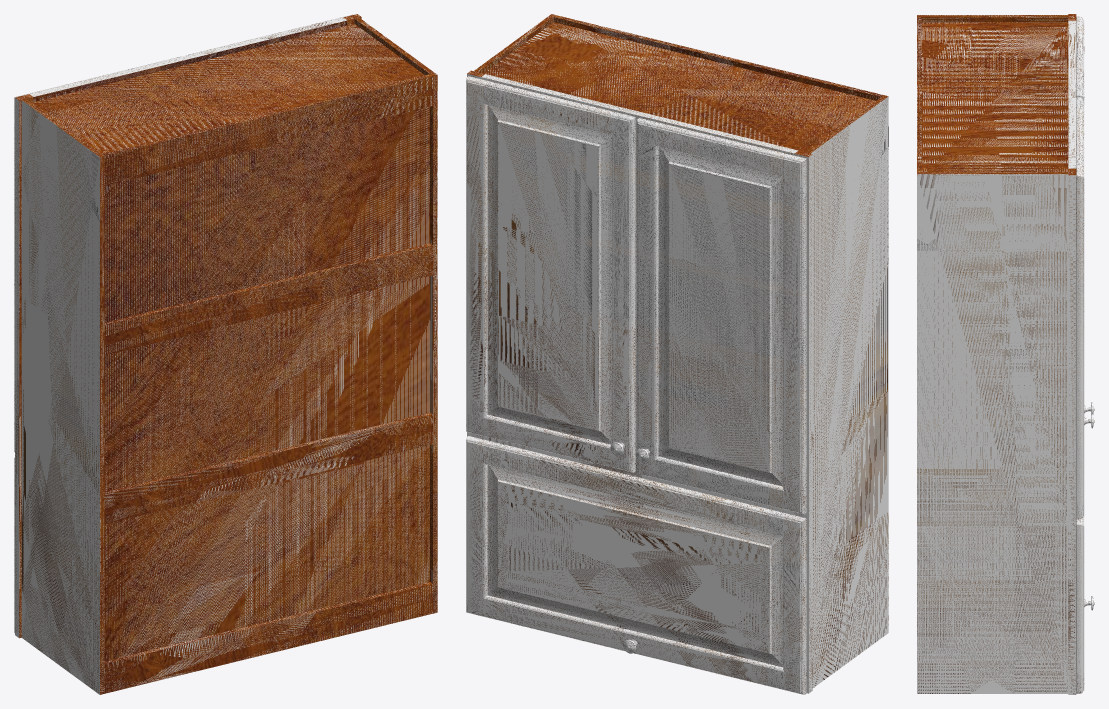
The picture shows the model from 3 angles, left to right: view 1: azimuth 30°, elevation 25°; view 2: azimuth 150°, elevation 25°; view 3: azimuth 270°, elevation 25°; orthographic projection. The views are drawn at different scales.
Visible parts, largest first — view 1: mesh5_mesh5-geometry, mesh6_mesh6-geometry, mesh12_mesh12-geometry, mesh9_mesh9-geometry, mesh1_mesh1-geometry, mesh7_mesh7-geometry, mesh10_mesh10-geometry; view 2: mesh6_mesh6-geometry, mesh23_mesh23-geometry, mesh34_mesh34-geometry, mesh9_mesh9-geometry, mesh45_mesh45-geometry, mesh40_mesh40-geometry, mesh41_mesh41-geometry, mesh32_mesh32-geometry, mesh21_mesh21-geometry, mesh20_mesh20-geometry, mesh31_mesh31-geometry, mesh18_mesh18-geometry (+23 smaller); view 3: mesh1_mesh1-geometry, mesh9_mesh9-geometry, mesh3_mesh3-geometry, mesh20_mesh20-geometry, mesh10_mesh10-geometry, mesh6_mesh6-geometry, mesh12_mesh12-geometry, mesh42_mesh42-geometry, mesh36_mesh36-geometry, mesh14_mesh14-geometry, mesh38_mesh38-geometry, mesh18_mesh18-geometry (+2 smaller).
Boxes of the visible parts, left/top/right/bottom form: mesh5_mesh5-geometry: left=104, top=106, right=429, bottom=660; mesh6_mesh6-geometry: left=21, top=99, right=104, bottom=694; mesh12_mesh12-geometry: left=102, top=74, right=432, bottom=693; mesh9_mesh9-geometry: left=31, top=24, right=424, bottom=153; mesh1_mesh1-geometry: left=354, top=17, right=437, bottom=613; mesh7_mesh7-geometry: left=15, top=94, right=33, bottom=638; mesh10_mesh10-geometry: left=29, top=17, right=347, bottom=101; mesh6_mesh6-geometry: left=806, top=95, right=888, bottom=687; mesh23_mesh23-geometry: left=499, top=123, right=597, bottom=429; mesh34_mesh34-geometry: left=670, top=165, right=768, bottom=470; mesh9_mesh9-geometry: left=483, top=22, right=875, bottom=152; mesh45_mesh45-geometry: left=507, top=502, right=760, bottom=632; mesh40_mesh40-geometry: left=507, top=446, right=763, bottom=563; mesh41_mesh41-geometry: left=507, top=571, right=762, bottom=684; mesh32_mesh32-geometry: left=768, top=189, right=806, bottom=478; mesh21_mesh21-geometry: left=597, top=147, right=635, bottom=436; mesh20_mesh20-geometry: left=466, top=115, right=498, bottom=405; mesh31_mesh31-geometry: left=637, top=156, right=669, bottom=446; mesh18_mesh18-geometry: left=499, top=84, right=600, bottom=147; mesh1_mesh1-geometry: left=917, top=172, right=1068, bottom=693; mesh9_mesh9-geometry: left=922, top=22, right=1068, bottom=171; mesh3_mesh3-geometry: left=1068, top=168, right=1076, bottom=694; mesh20_mesh20-geometry: left=1076, top=210, right=1084, bottom=484; mesh10_mesh10-geometry: left=1068, top=20, right=1076, bottom=168; mesh6_mesh6-geometry: left=917, top=15, right=1068, bottom=22; mesh12_mesh12-geometry: left=917, top=17, right=922, bottom=171; mesh42_mesh42-geometry: left=1076, top=574, right=1084, bottom=642; mesh36_mesh36-geometry: left=1076, top=515, right=1084, bottom=575; mesh14_mesh14-geometry: left=1076, top=160, right=1084, bottom=211; mesh38_mesh38-geometry: left=1076, top=642, right=1084, bottom=693; mesh18_mesh18-geometry: left=1076, top=113, right=1084, bottom=162.
Bounding box in the file's own units: 0.5371 × 0.8056 × 0.2499.
